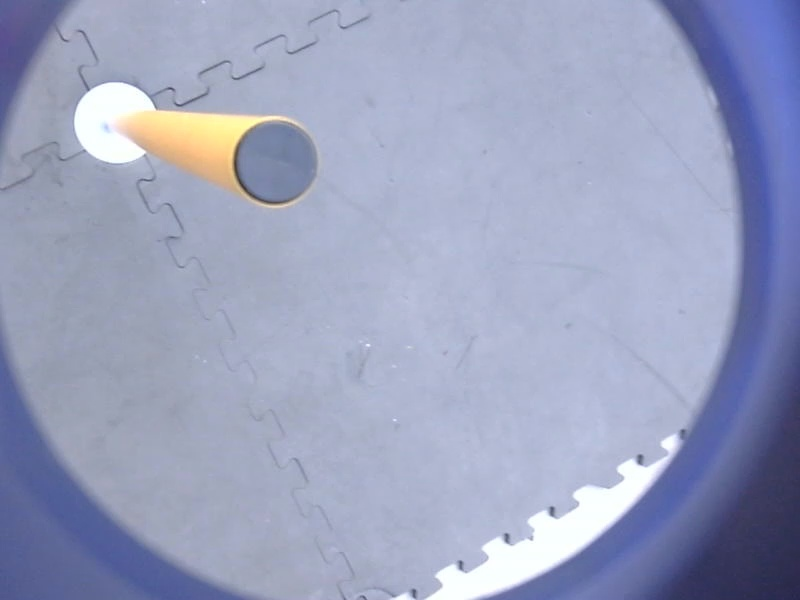tip: (227, 110, 327, 212)
